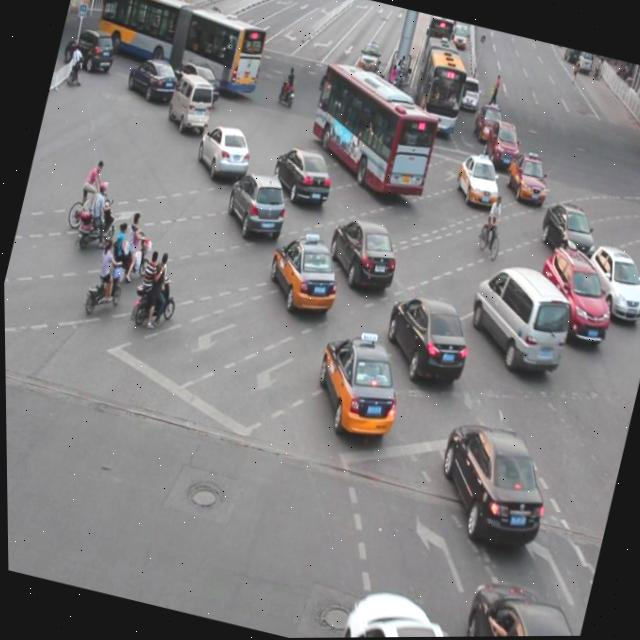car: (423, 412, 558, 552), (305, 327, 409, 443), (373, 286, 477, 390), (524, 241, 623, 348), (448, 572, 586, 637), (334, 579, 479, 638), (261, 228, 347, 319), (321, 211, 405, 295), (219, 166, 293, 244), (574, 240, 640, 325), (267, 141, 338, 209), (534, 197, 602, 264), (190, 118, 256, 185), (449, 150, 505, 212), (125, 51, 182, 106), (500, 149, 552, 208), (170, 57, 224, 106), (479, 117, 524, 173)
truck: (459, 255, 578, 377), (163, 69, 219, 136)
van: (298, 60, 447, 204), (89, 0, 271, 97)
